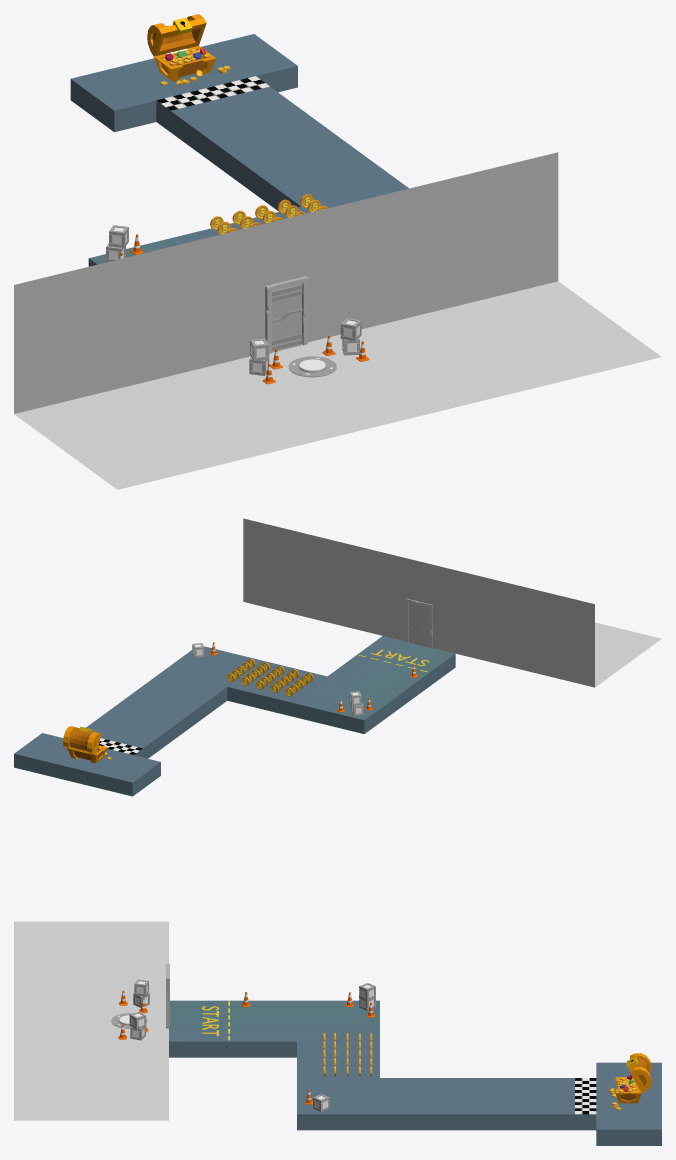
The picture shows the model from 3 angles, top to bottom: view 1: azimuth 30°, elevation 25°; view 2: azimuth 150°, elevation 25°; view 3: azimuth 270°, elevation 25°; orthographic projection. The views are drawn at different scales.
Visible parts, largest first — view 1: SM_Room_Wall, SM_Room_Floor, SM_Platform, SM_Chest, SM_Door_Frame, SM_Door_Bottom, SM_Door_Top, SM_Podium; view 2: SM_Room_Wall, SM_Platform, SM_Room_Floor, SM_Chest, SM_Door_Bottom, SM_Door_Frame; view 3: SM_Platform, SM_Room_Floor, SM_Chest.
Boxes of the visible parts, left/top/right/bottom form: SM_Room_Wall: left=14, top=152, right=558, bottom=413; SM_Room_Floor: left=14, top=281, right=661, bottom=489; SM_Platform: left=70, top=34, right=408, bottom=266; SM_Chest: left=147, top=14, right=230, bottom=85; SM_Door_Frame: left=265, top=276, right=308, bottom=353; SM_Door_Bottom: left=272, top=310, right=302, bottom=352; SM_Door_Top: left=272, top=283, right=302, bottom=321; SM_Podium: left=288, top=356, right=336, bottom=377; SM_Room_Wall: left=243, top=518, right=594, bottom=687; SM_Platform: left=14, top=636, right=455, bottom=796; SM_Room_Floor: left=595, top=622, right=661, bottom=687; SM_Chest: left=63, top=726, right=111, bottom=763; SM_Door_Bottom: left=408, top=620, right=429, bottom=647; SM_Door_Frame: left=405, top=598, right=432, bottom=648; SM_Platform: left=169, top=1000, right=661, bottom=1145; SM_Room_Floor: left=14, top=921, right=168, bottom=1120; SM_Chest: left=609, top=1053, right=651, bottom=1110.
Size of what is drawn, in the model's own units: 27.73 by 7 by 36.51.
Materials: 3 (3 with a texture image).
